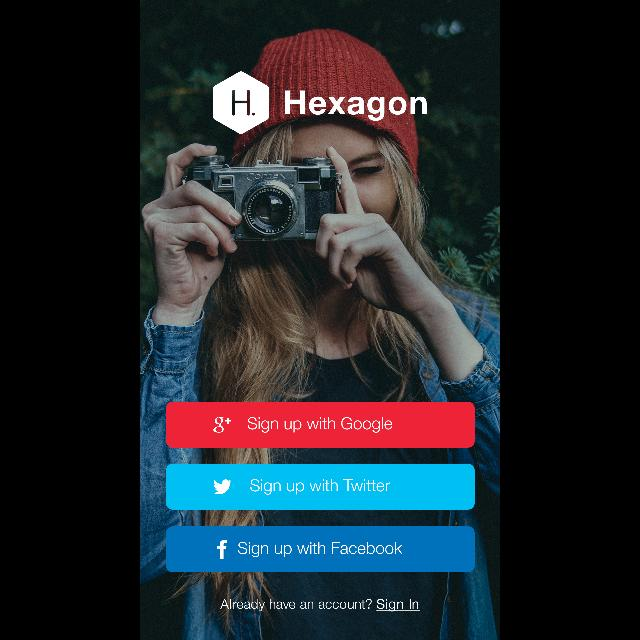backgroundimage: (140, 1, 500, 640)
image: (213, 72, 269, 134)
text: (285, 90, 427, 122), (220, 598, 420, 612)
textbutton: (167, 402, 475, 448), (166, 464, 474, 510), (166, 527, 474, 573)
